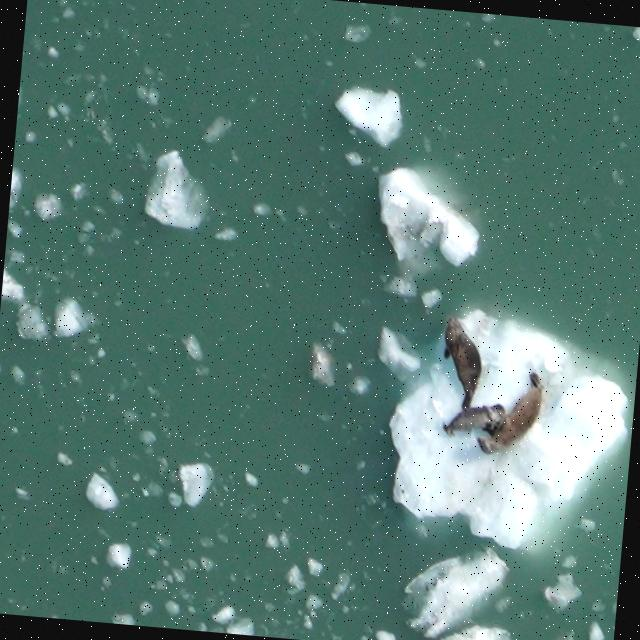seal: (469, 364, 548, 462), (434, 311, 488, 415), (437, 399, 504, 442)
